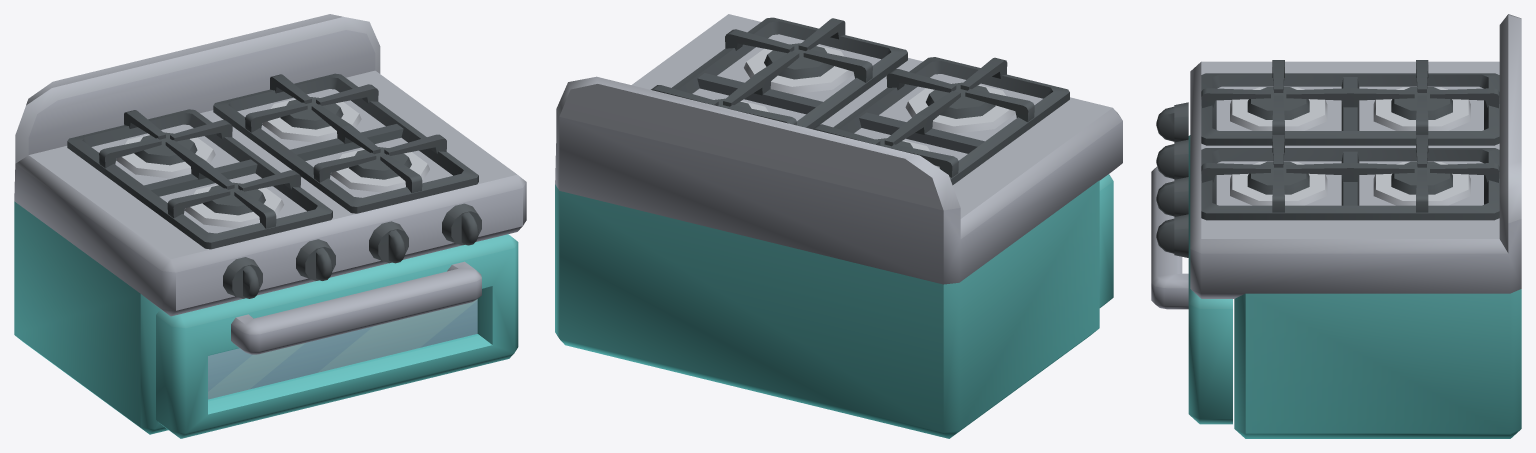
The model's file is Stove.glb.
3 renders of one model, left to right at view 1: azimuth 30°, elevation 25°; view 2: azimuth 150°, elevation 25°; view 3: azimuth 270°, elevation 25°, orthographic. The views are drawn at different scales.
Visible parts, largest first — view 1: stove, stove_door; view 2: stove, stove_door; view 3: stove, stove_door.
Boxes of the visible parts, bbox=[...] form: stove: bbox=[14, 14, 526, 434]; stove_door: bbox=[156, 234, 518, 438]; stove: bbox=[555, 14, 1122, 438]; stove_door: bbox=[1099, 174, 1113, 307]; stove: bbox=[1156, 14, 1521, 438]; stove_door: bbox=[1151, 135, 1232, 424].
Size of the model in its own units: 2 by 1.3 by 1.68.
2 materials, 2 textured.
